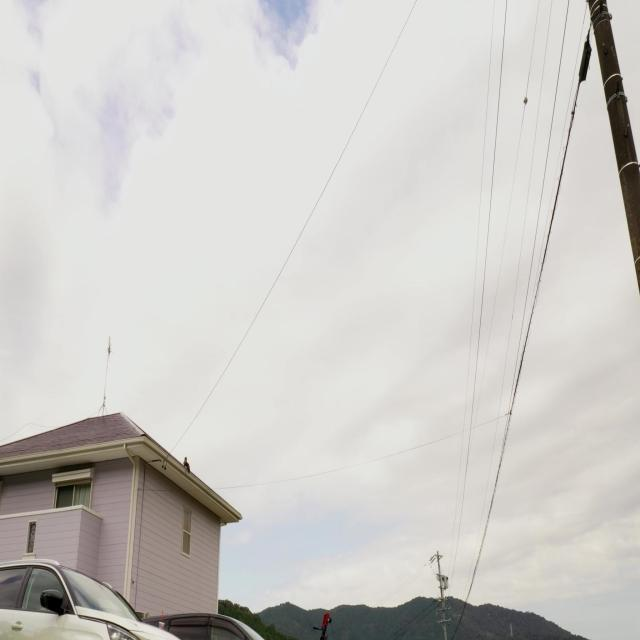Birds: (180, 450, 194, 476)
